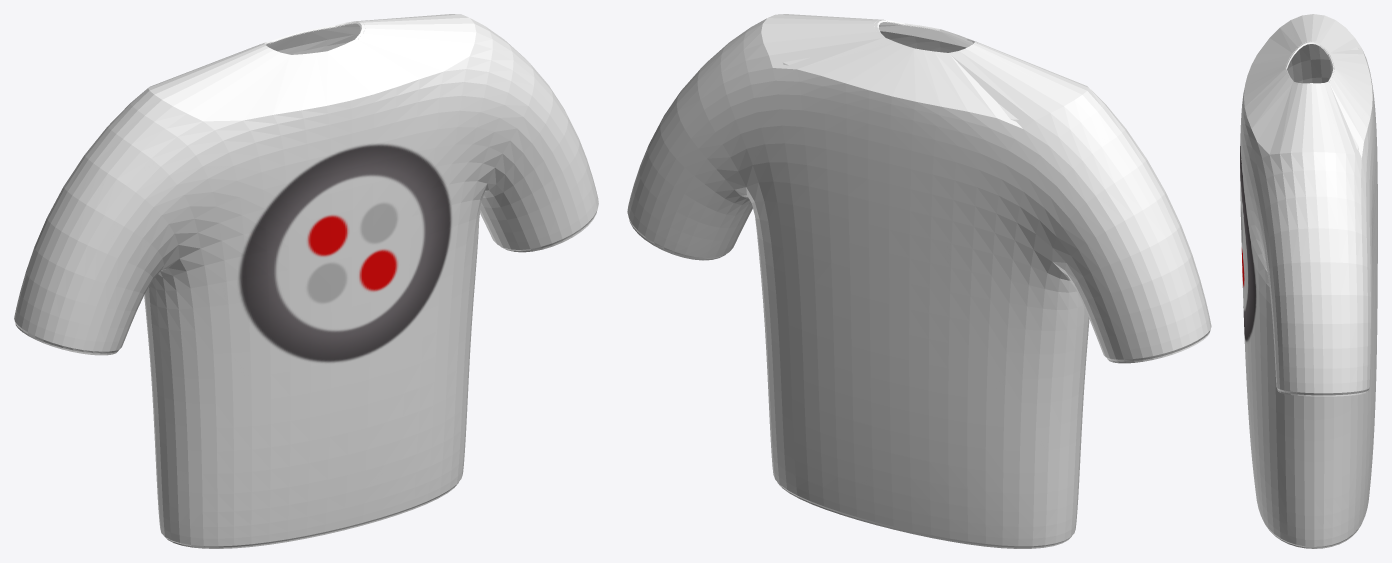
File: t-shirt.obj
3 renders of one model, left to right at view 1: azimuth 30°, elevation 25°; view 2: azimuth 150°, elevation 25°; view 3: azimuth 270°, elevation 25°, orthographic. The views are drawn at different scales.
Visible parts, largest first — view 1: Cube_Cube.001; view 2: Cube_Cube.001; view 3: Cube_Cube.001.
Boxes of the visible parts, <box> form: Cube_Cube.001: <box>14,14,598,548</box>; Cube_Cube.001: <box>627,14,1211,548</box>; Cube_Cube.001: <box>1240,14,1377,548</box>.
Bounding box in the file's own units: 2.53 × 2.01 × 0.5904.
Materials: 1 (1 with a texture image).
